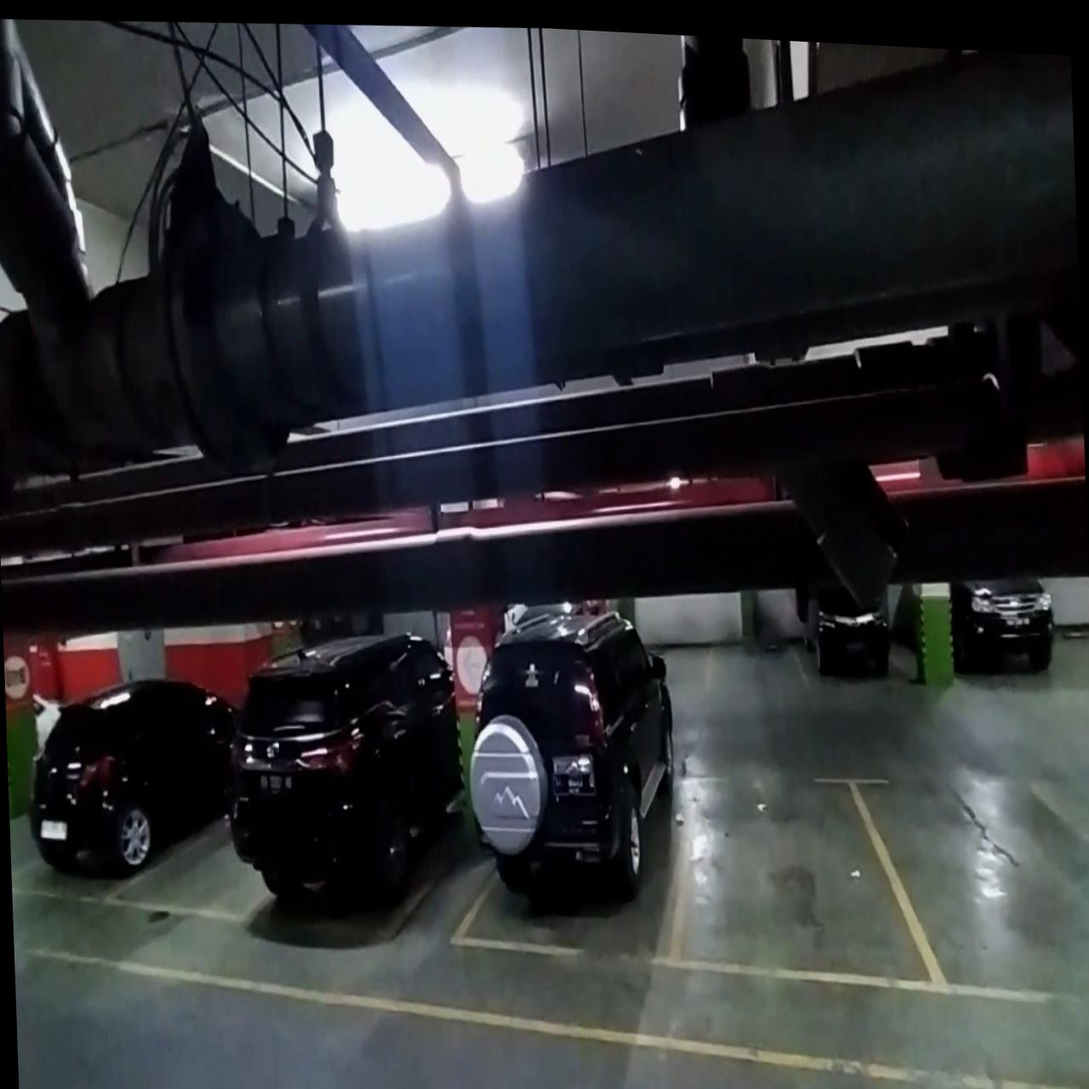cars: (458, 763, 695, 962)
empty: (671, 780, 939, 986), (109, 767, 387, 920)
